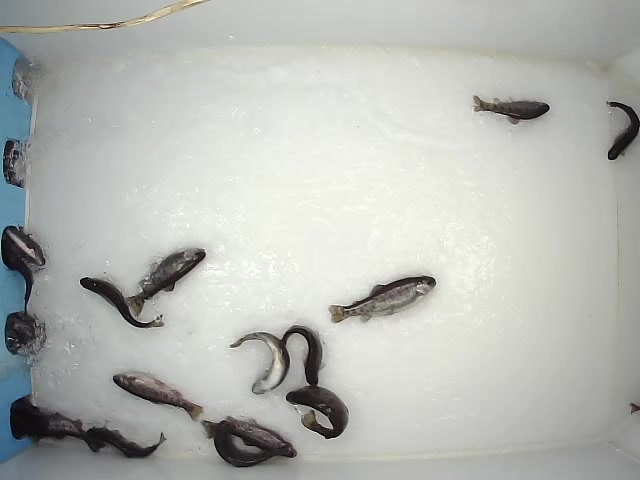fish: (124, 247, 208, 317), (329, 275, 437, 324), (112, 370, 204, 424), (79, 276, 165, 329), (199, 415, 298, 460), (228, 331, 291, 395), (284, 386, 349, 440), (213, 419, 279, 469), (85, 422, 167, 461), (280, 324, 328, 386), (471, 94, 550, 126), (604, 99, 640, 161)
